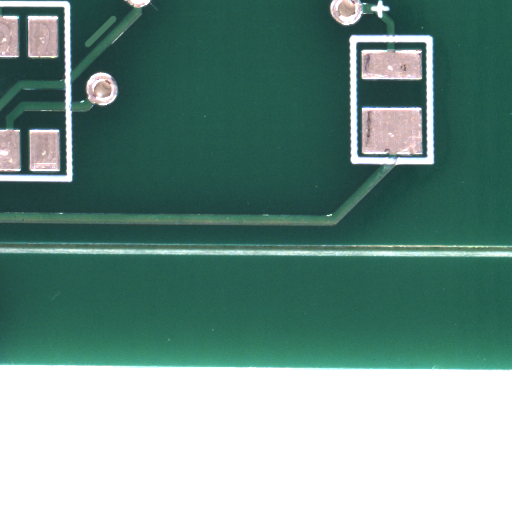Spurious_copper: (100, 31, 133, 64)
